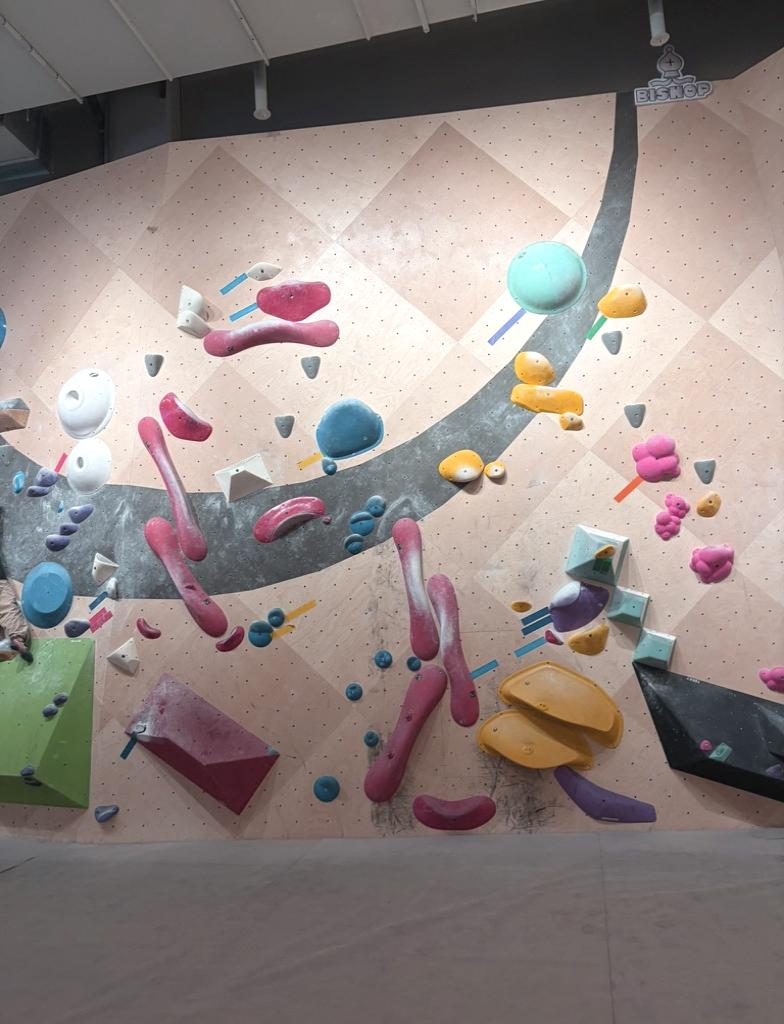crimp: (215, 627, 244, 650), (697, 492, 720, 517), (137, 617, 159, 637), (595, 544, 615, 559), (545, 629, 561, 645), (511, 601, 531, 611)
downhold: (694, 461, 715, 483), (624, 404, 644, 427), (300, 357, 320, 378), (602, 332, 621, 354), (276, 416, 293, 437), (145, 355, 162, 376)
jib: (313, 775, 339, 801), (709, 743, 731, 761), (374, 650, 392, 667), (345, 683, 362, 700), (407, 655, 421, 671), (363, 732, 379, 746), (53, 692, 67, 706), (43, 703, 57, 717), (700, 740, 713, 750)
jug: (315, 399, 383, 459), (549, 582, 608, 631), (632, 434, 679, 482), (689, 545, 733, 582), (599, 285, 646, 318), (514, 350, 554, 385), (569, 623, 608, 655), (180, 285, 207, 318), (178, 311, 208, 338), (654, 510, 680, 539), (249, 620, 272, 646), (247, 263, 281, 280), (350, 511, 374, 535), (665, 494, 689, 517), (69, 503, 93, 523), (366, 495, 385, 517), (35, 467, 57, 486), (46, 535, 69, 551), (559, 414, 582, 429), (344, 533, 361, 553), (268, 608, 283, 627), (323, 458, 337, 474), (28, 485, 48, 496), (60, 523, 77, 535)
ledge: (555, 767, 655, 822), (204, 319, 338, 357), (567, 525, 627, 586), (254, 496, 325, 542), (256, 281, 330, 321), (214, 454, 271, 501), (160, 392, 210, 441), (512, 385, 583, 415), (634, 628, 675, 669), (607, 587, 648, 627)
pocket: (58, 368, 114, 437), (67, 440, 110, 494)
sidepull: (364, 667, 446, 802), (145, 518, 227, 636), (139, 417, 206, 560), (428, 574, 479, 726), (392, 518, 439, 659)
sloper: (506, 241, 585, 314)
tape: (488, 307, 526, 344), (615, 476, 642, 501), (516, 636, 545, 656), (287, 601, 315, 620), (89, 608, 111, 632), (230, 301, 256, 321), (471, 660, 497, 679), (220, 274, 246, 293), (522, 606, 548, 624), (523, 618, 550, 635), (586, 315, 605, 339), (296, 452, 321, 469), (119, 734, 135, 759), (272, 624, 294, 638), (90, 592, 106, 609), (53, 453, 66, 473)
undercling: (499, 662, 617, 729), (477, 710, 592, 769), (439, 449, 483, 482), (484, 461, 505, 480)
volume: (126, 674, 278, 813), (635, 664, 783, 801), (0, 638, 93, 807)
